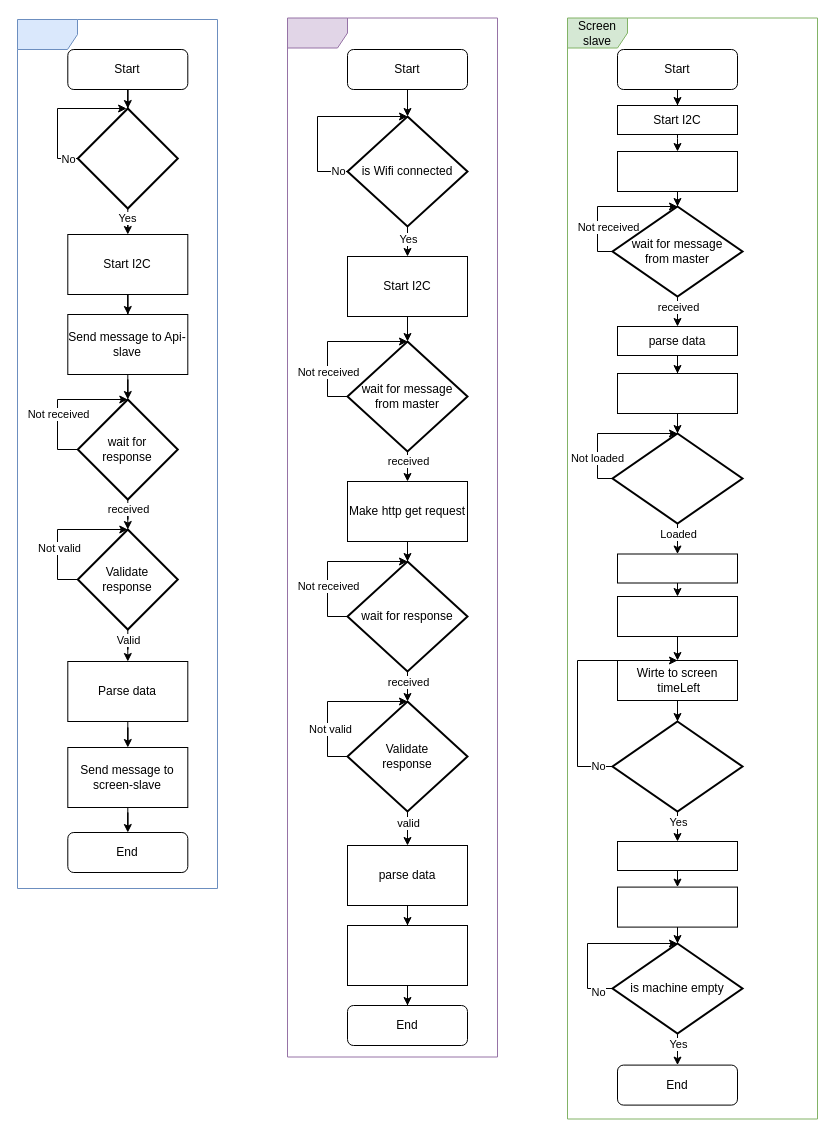
Some shapes in this 835 by 1136 pixel diagram are drawn without their labels. Here are the shapes that lost their labels. From the top down, the box of each, then its label:
(76, 107, 178, 209): RFID scan
(616, 150, 738, 192): Write to screen "Scan RFID kort"
(616, 372, 738, 414): Write to screen "load"
(16, 18, 218, 888): Rfid Master
(611, 432, 743, 524): Wait for user to load the machine
(286, 17, 498, 1057): API slave
(616, 553, 738, 583): Start machine
(616, 596, 738, 636): Wirte to screen program type
(611, 720, 743, 812): timeLeft == 0
(616, 840, 738, 870): Stop machine
(616, 886, 738, 927): Write to screen "Tøm maskinen"
(346, 924, 468, 986): Send message back to master
